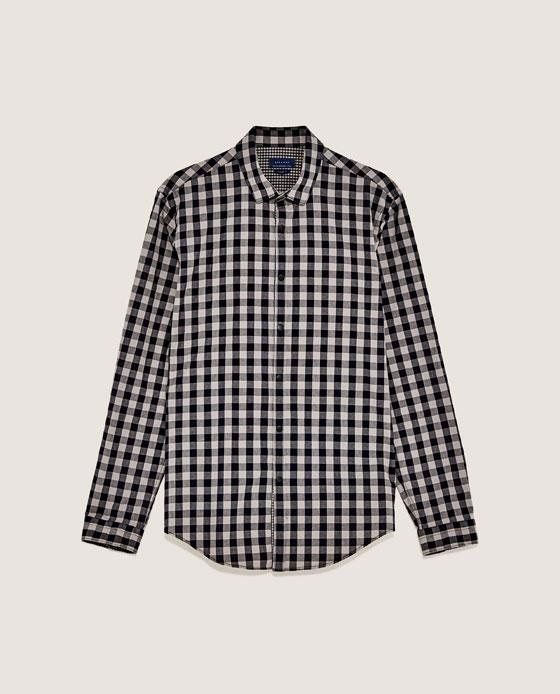teeshirt: (70, 119, 481, 573)
